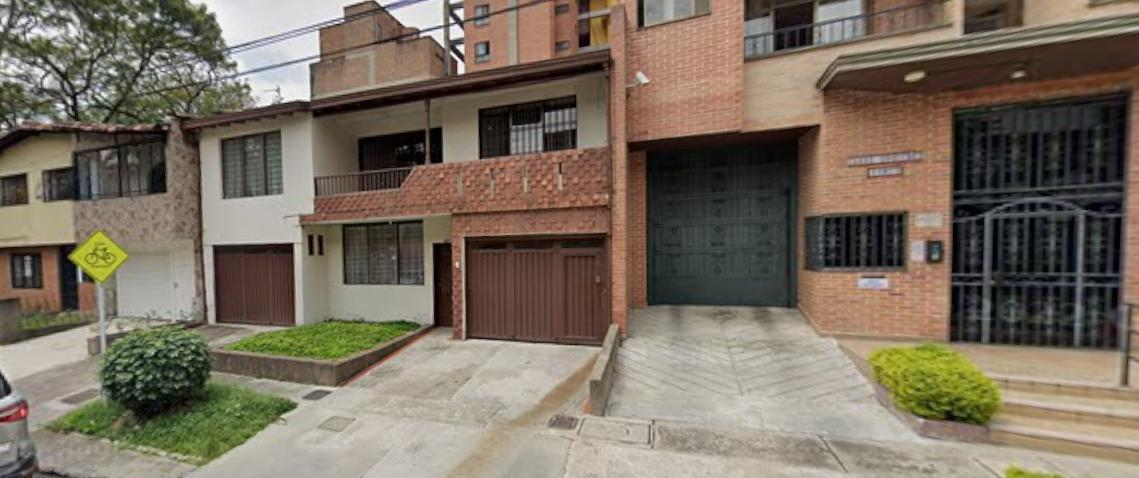casa: (594, 0, 1138, 459), (185, 55, 612, 384), (0, 116, 205, 320)
